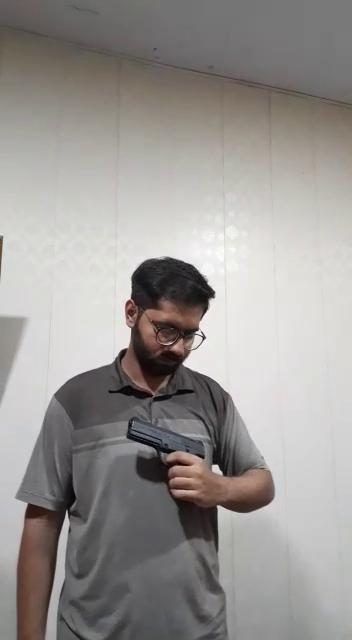criminal: (13, 253, 279, 640)
weapon: (125, 412, 211, 477)
